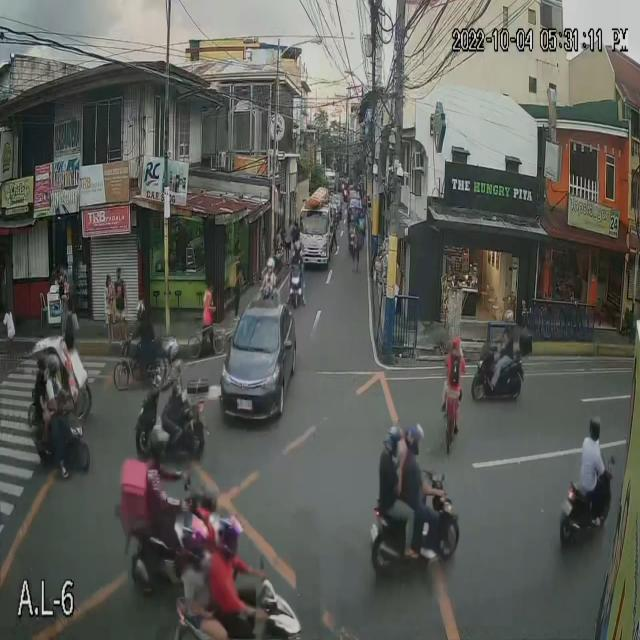Full-Faced: (213, 507, 240, 549), (146, 424, 170, 463), (380, 421, 403, 454), (404, 424, 423, 449), (165, 337, 183, 362), (586, 418, 606, 440), (292, 240, 308, 264), (47, 353, 61, 378), (502, 308, 514, 334), (264, 256, 278, 278), (134, 299, 146, 324), (38, 352, 46, 373)
Not-Wearing-Helmet: (450, 330, 462, 354)
